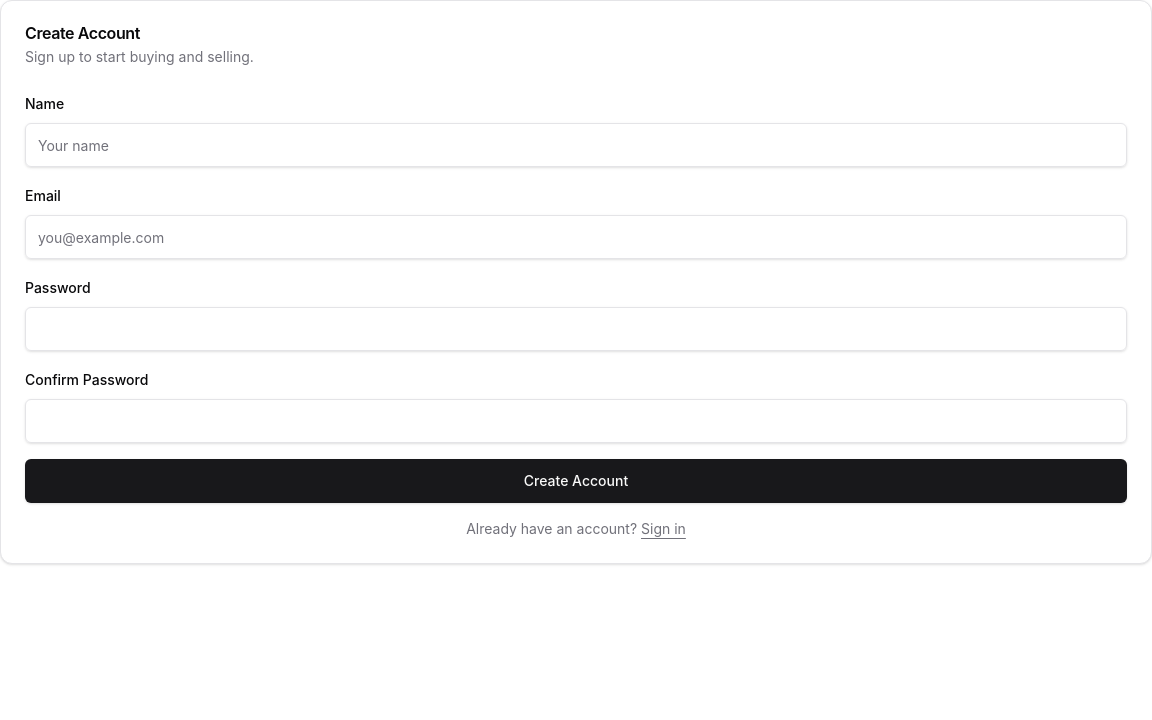
RegisterPage › maps email-related server error to email field
Type "Test User" into the field labelled "Name". click: point(576, 145)
box: [25,123,1127,167]
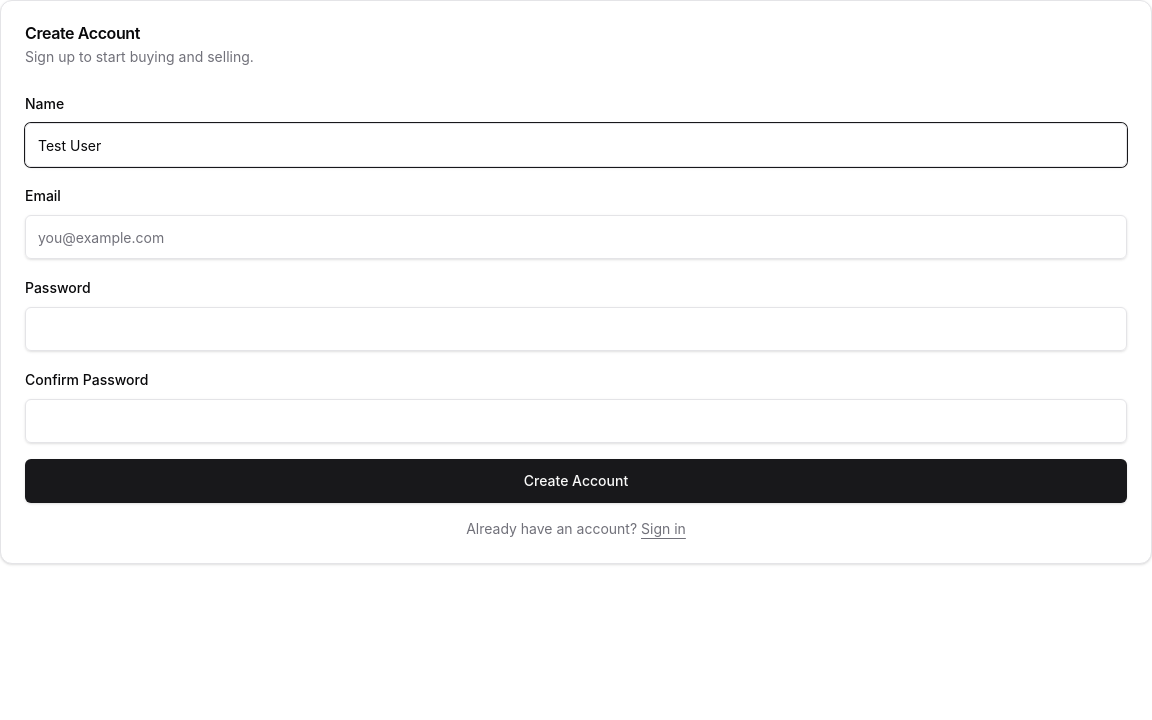
Type "test@example.com" into the field labelled "Email". click: point(576, 237)
box: [25,215,1127,259]
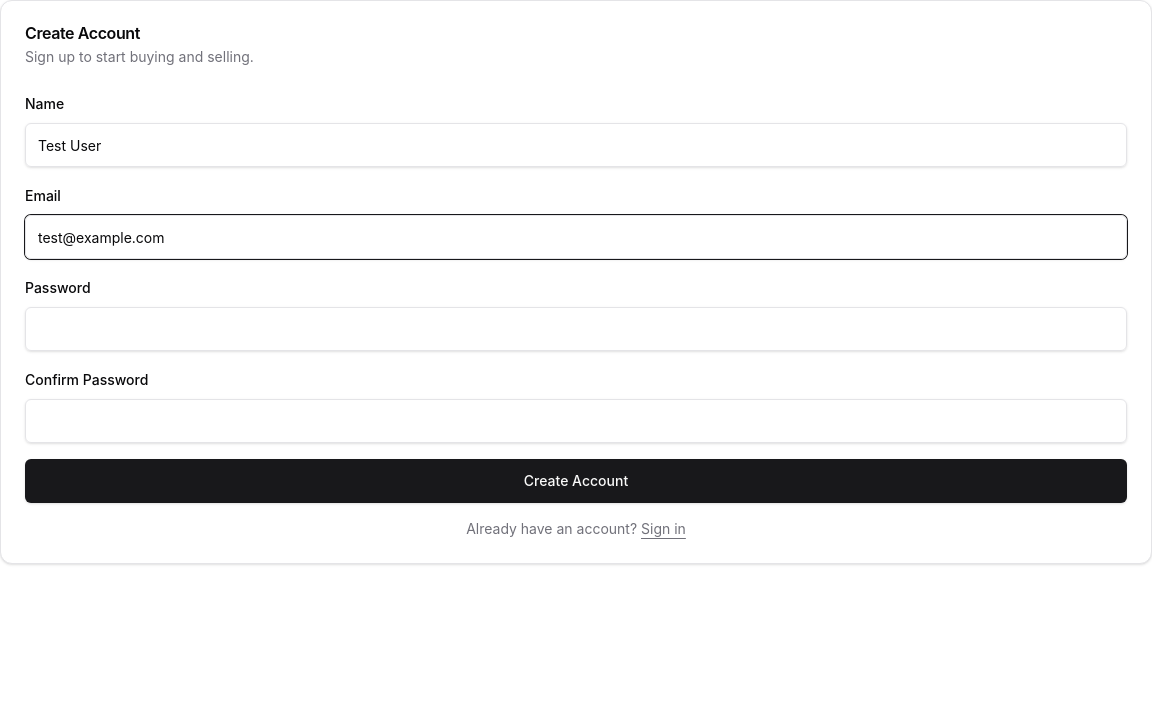
Type "password123" into the password field labelled "Password". click: point(576, 329)
box: [25,307,1127,351]
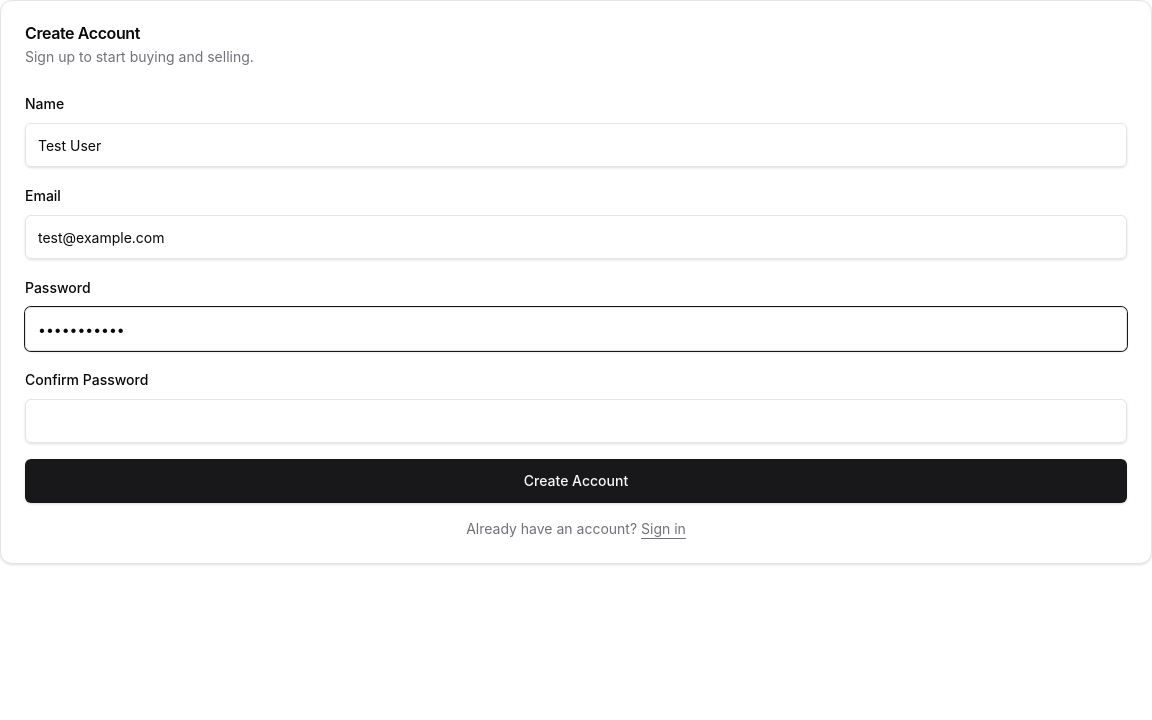
Type "password123" into the password field labelled "Confirm Password". click: point(576, 421)
box: [25,399,1127,443]
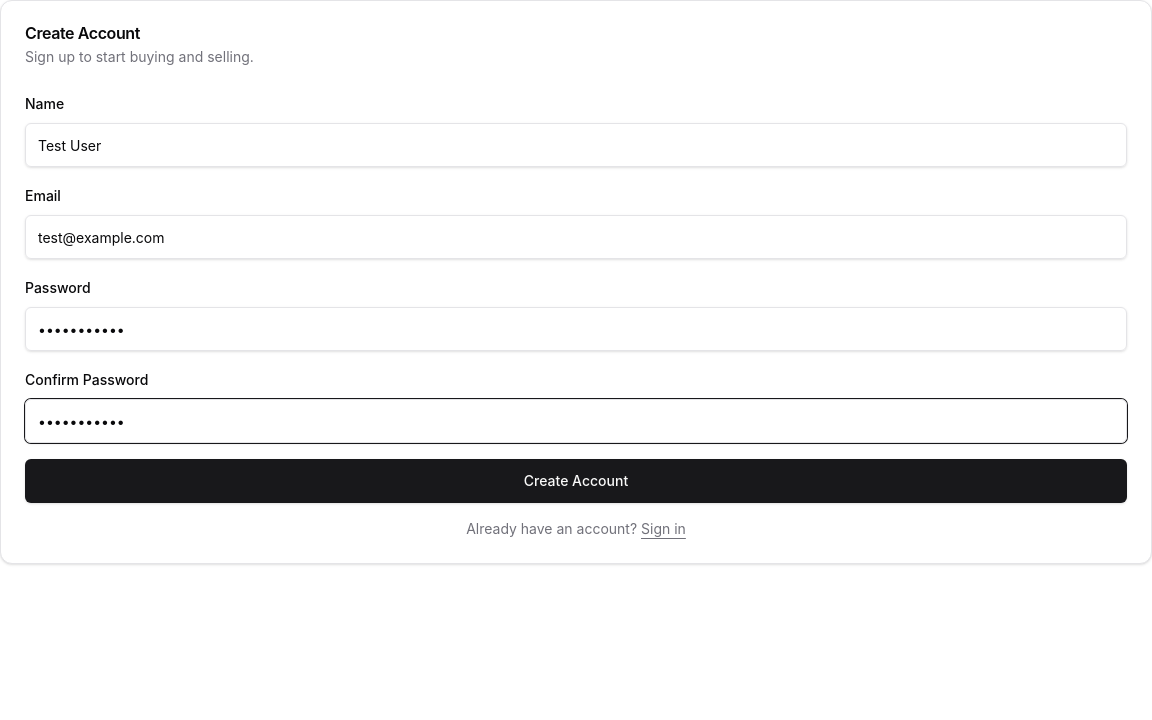
Click the button "Create Account". click: point(576, 481)
box: [25,459,1127,503]
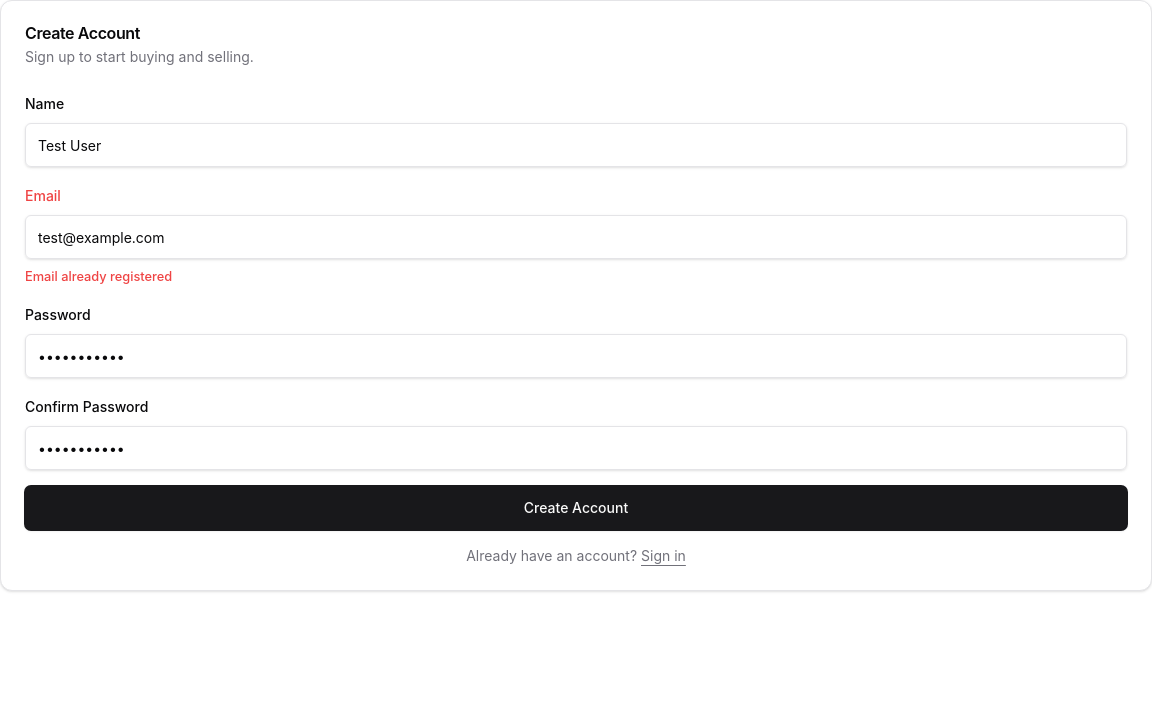
Now the text "Email already registered" is shown, box [25,269,172,284]
